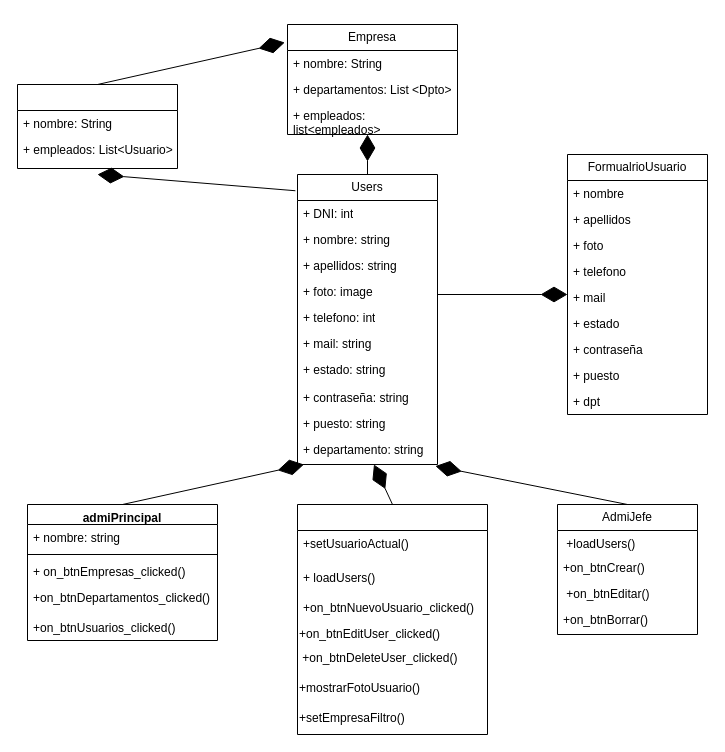
The diagram is 725 pixels wide and 752 high, and some of its shapes have lost their labels. The shapes that lost their labels are listed below. From the top down, each one's box as (x1, y1, x2, y2) in pixels, then its label:
(16, 84, 178, 168): Dpto
(296, 504, 488, 734): trabajador
